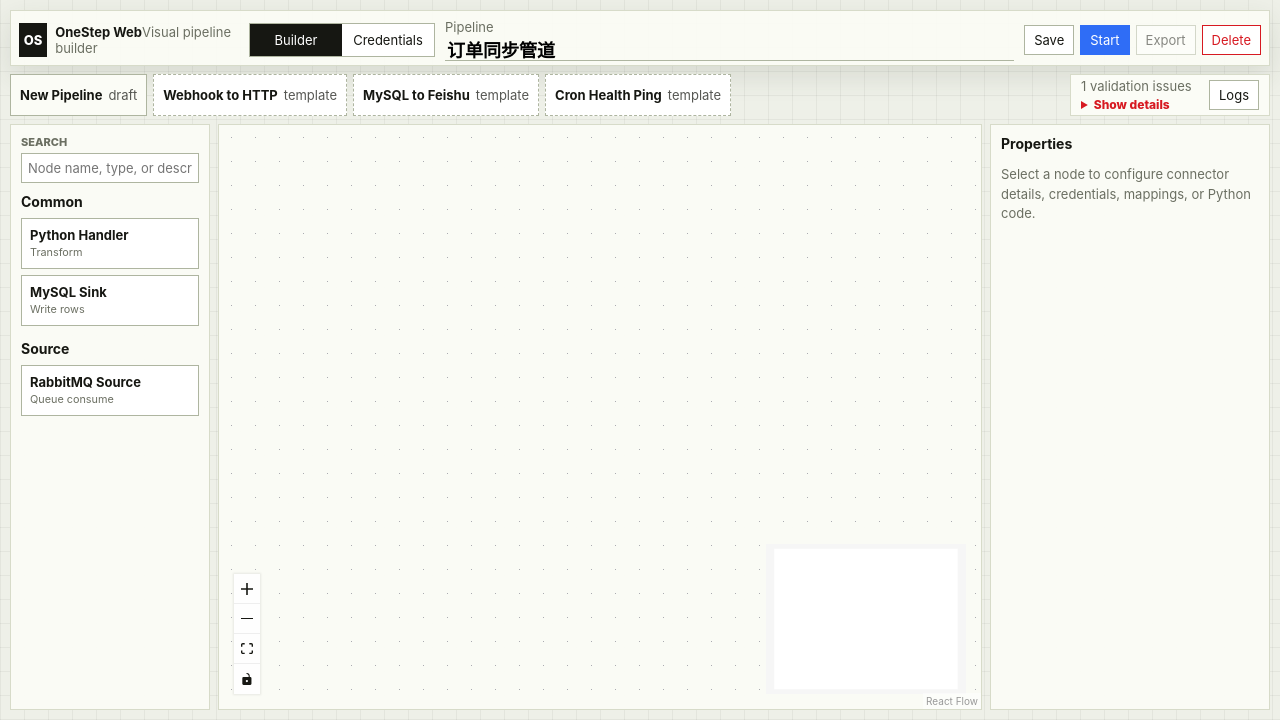
Test: App › keeps connection testing out of the builder node panel
Click the text "RabbitMQ Source". click: (86, 382)
box: [30,374,141,390]
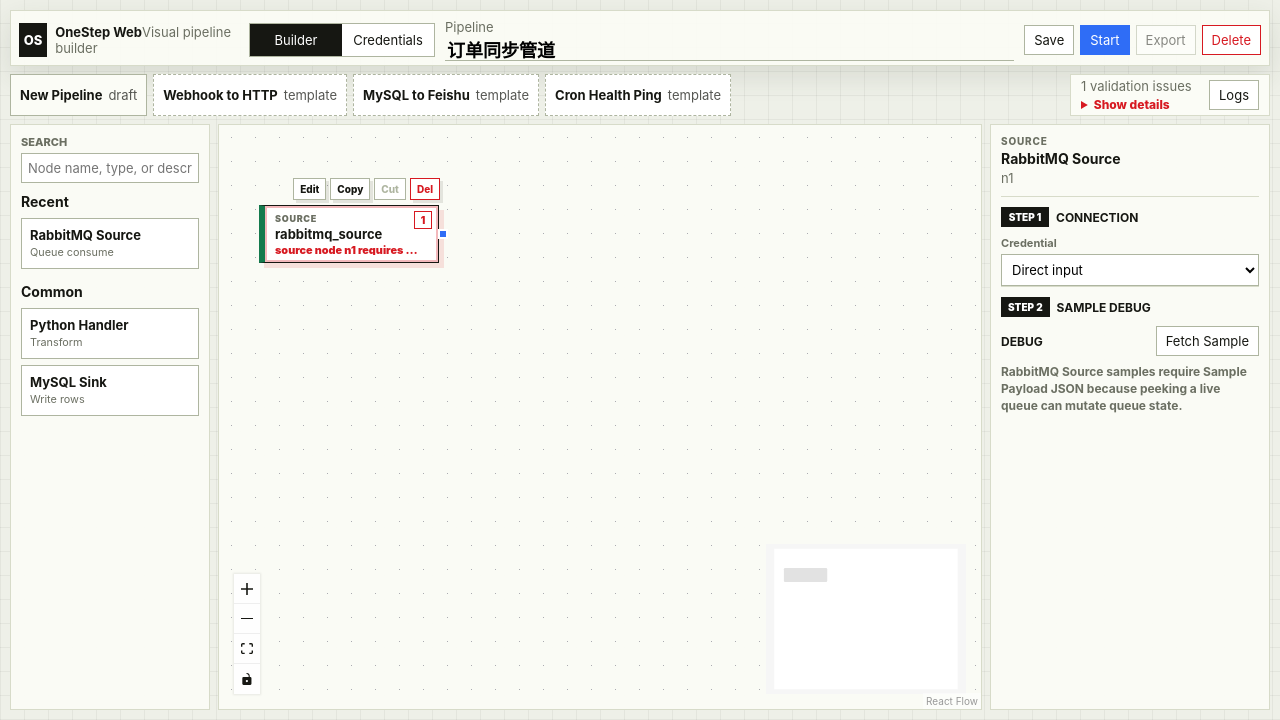
Check: the button "Fetch Sample" is shown, box [1156,326,1259,356]
